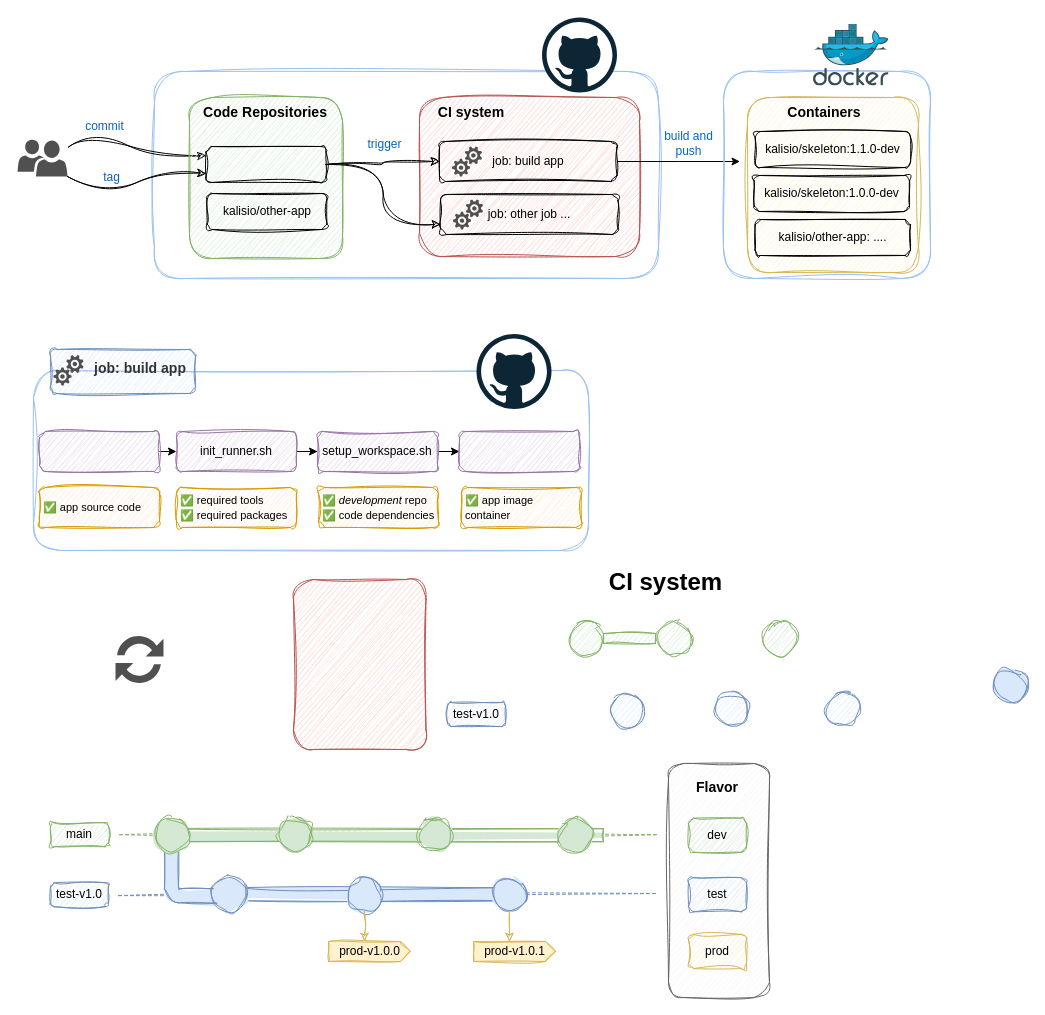
Image size: 1045x1015. Some labels were removed from this diagram. Each missing label, with the centre of its shape:
"build_app.sh" goes at [519,451].
"kalisio/skeleton" goes at [265,164].
"source checkout" goes at [99,451].
